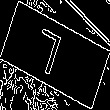L_SW: (37, 26, 73, 84)
